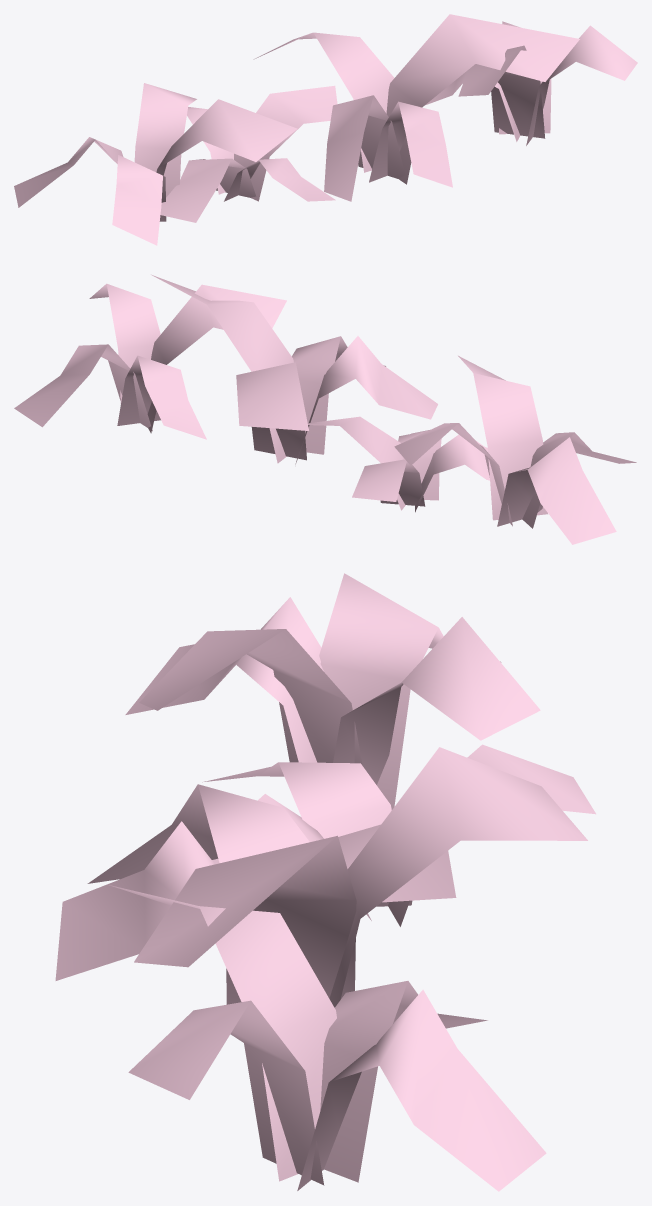
3 views of the same model, one above another, from view 1: azimuth 30°, elevation 25°; view 2: azimuth 150°, elevation 25°; view 3: azimuth 270°, elevation 25° (orthographic). The views are drawn at different scales.
Visible parts, largest first — view 1: Object20; view 2: Object20; view 3: Object20.
Boxes of the visible parts, x1,y1,x2,y2 form: Object20: (14, 14, 637, 245); Object20: (14, 274, 636, 544); Object20: (55, 573, 595, 1191).
Bounding box in the file's own units: 264 × 60.63 × 110.
